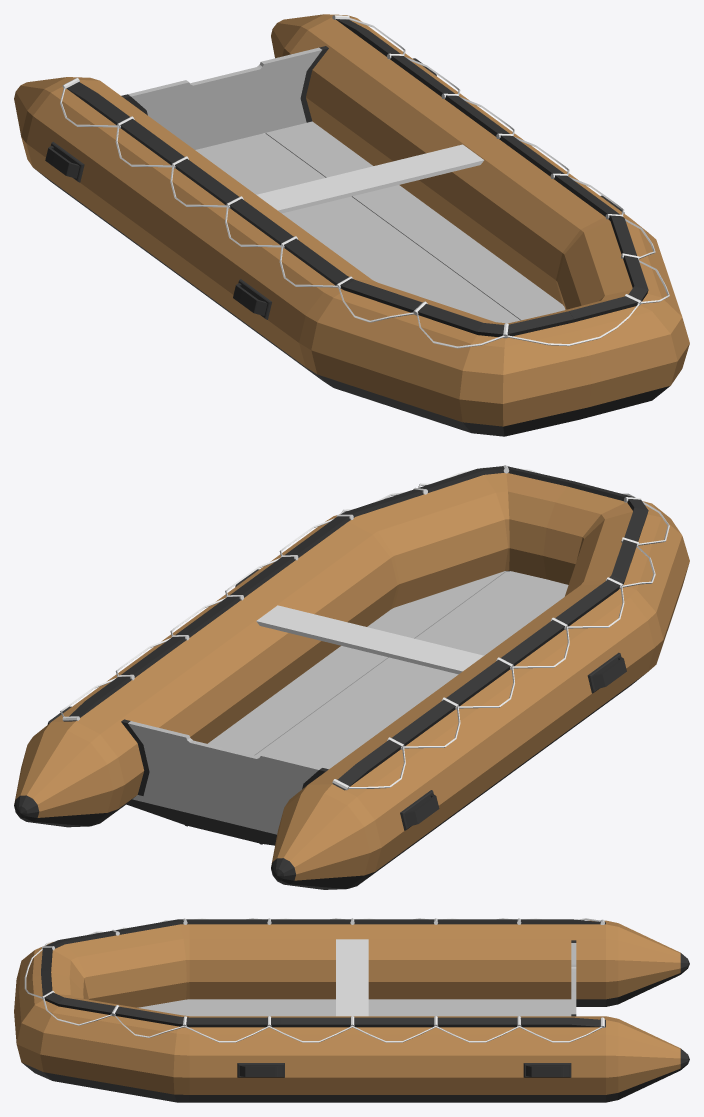
Rendered from Rubber_Boat.fbx.
The picture shows the model from 3 angles, top to bottom: view 1: azimuth 30°, elevation 25°; view 2: azimuth 150°, elevation 25°; view 3: azimuth 270°, elevation 25°; orthographic projection. The views are drawn at different scales.
Visible parts, largest first — view 1: Rubber_Boat; view 2: Rubber_Boat; view 3: Rubber_Boat.
Part boxes in pixels (x1,y1,x2,y2): Rubber_Boat: [14, 14, 689, 436]; Rubber_Boat: [14, 465, 689, 889]; Rubber_Boat: [14, 918, 689, 1102].
Bounding box in the file's own units: 180 × 50.21 × 370.
